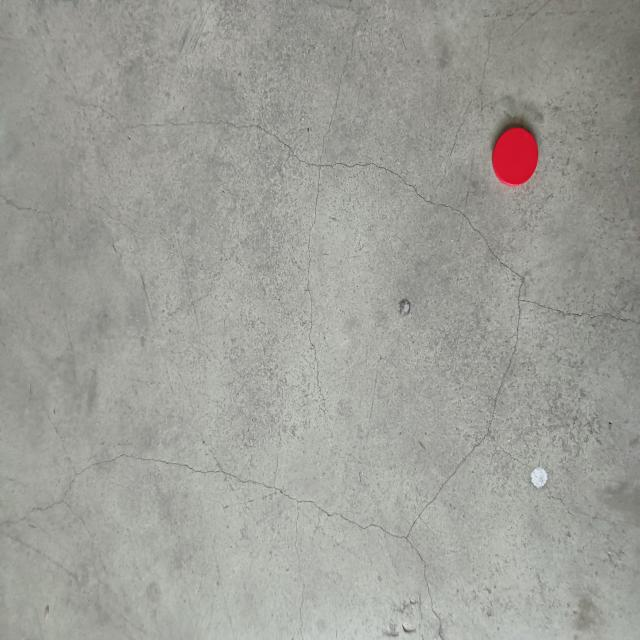chip: (493, 128, 537, 187)
